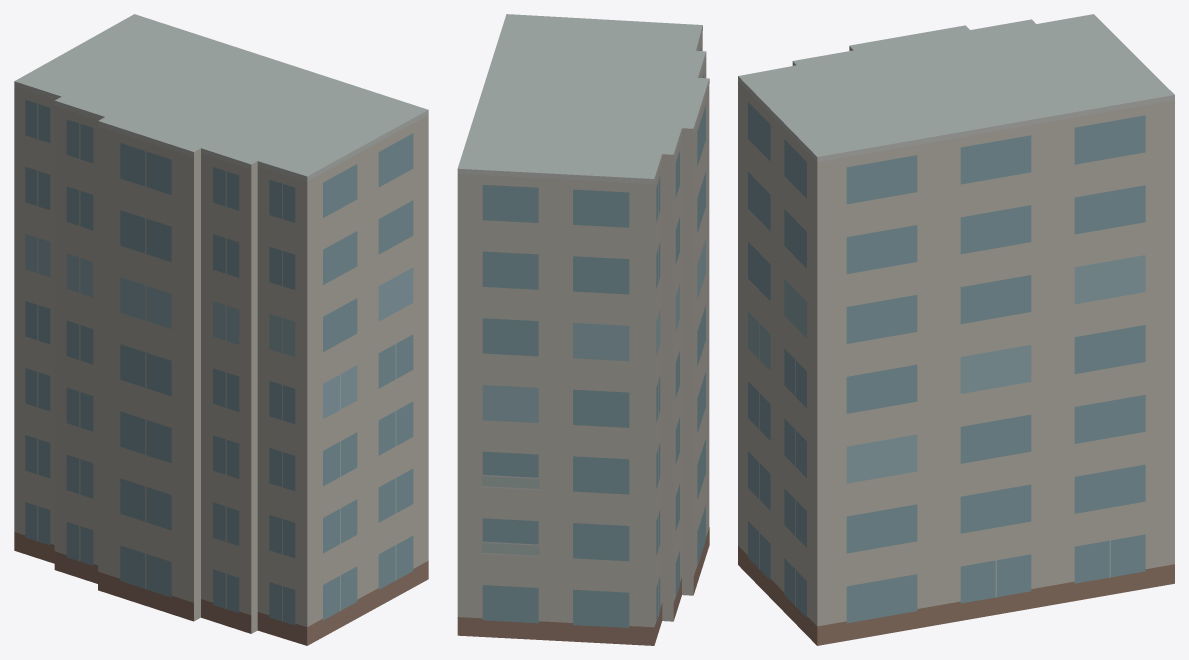
File: survey-upis-32703539.glb
3 renders of one model, left to right at view 1: azimuth 30°, elevation 25°; view 2: azimuth 150°, elevation 25°; view 3: azimuth 270°, elevation 25°, orthographic. The views are drawn at different scales.
Visible parts, largest first — view 1: survey-upis-32703539.tmp; view 2: survey-upis-32703539.tmp; view 3: survey-upis-32703539.tmp.
Part boxes in pixels (x1,y1,x2,y2): survey-upis-32703539.tmp: (14,14,428,645); survey-upis-32703539.tmp: (457,14,709,645); survey-upis-32703539.tmp: (738,14,1174,645).
Bounding box in the file's own units: 14.19 × 22.6 × 18.31.
